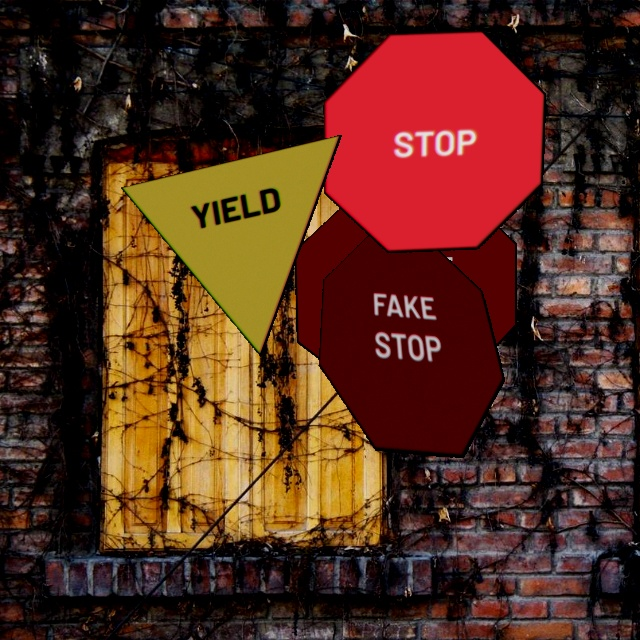FAKE_STOP: (294, 184, 517, 398), (318, 235, 505, 458)
STOP: (323, 30, 546, 253)
YIELD: (120, 134, 342, 357)
